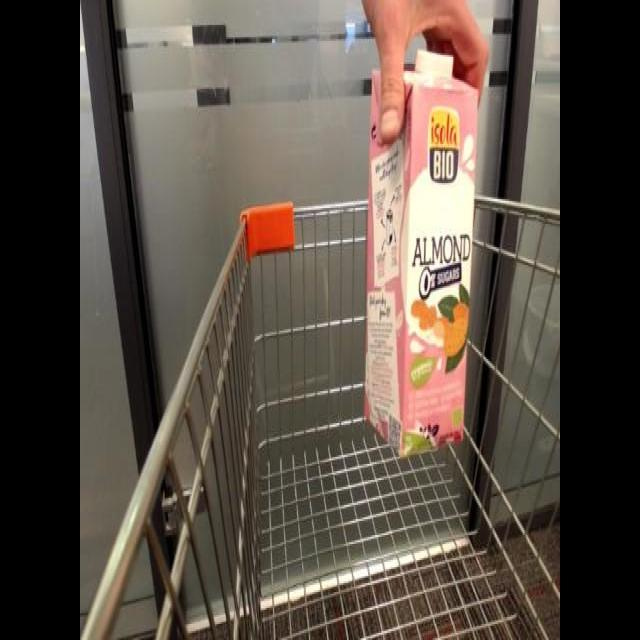Almond Milk: (362, 44, 480, 468)
